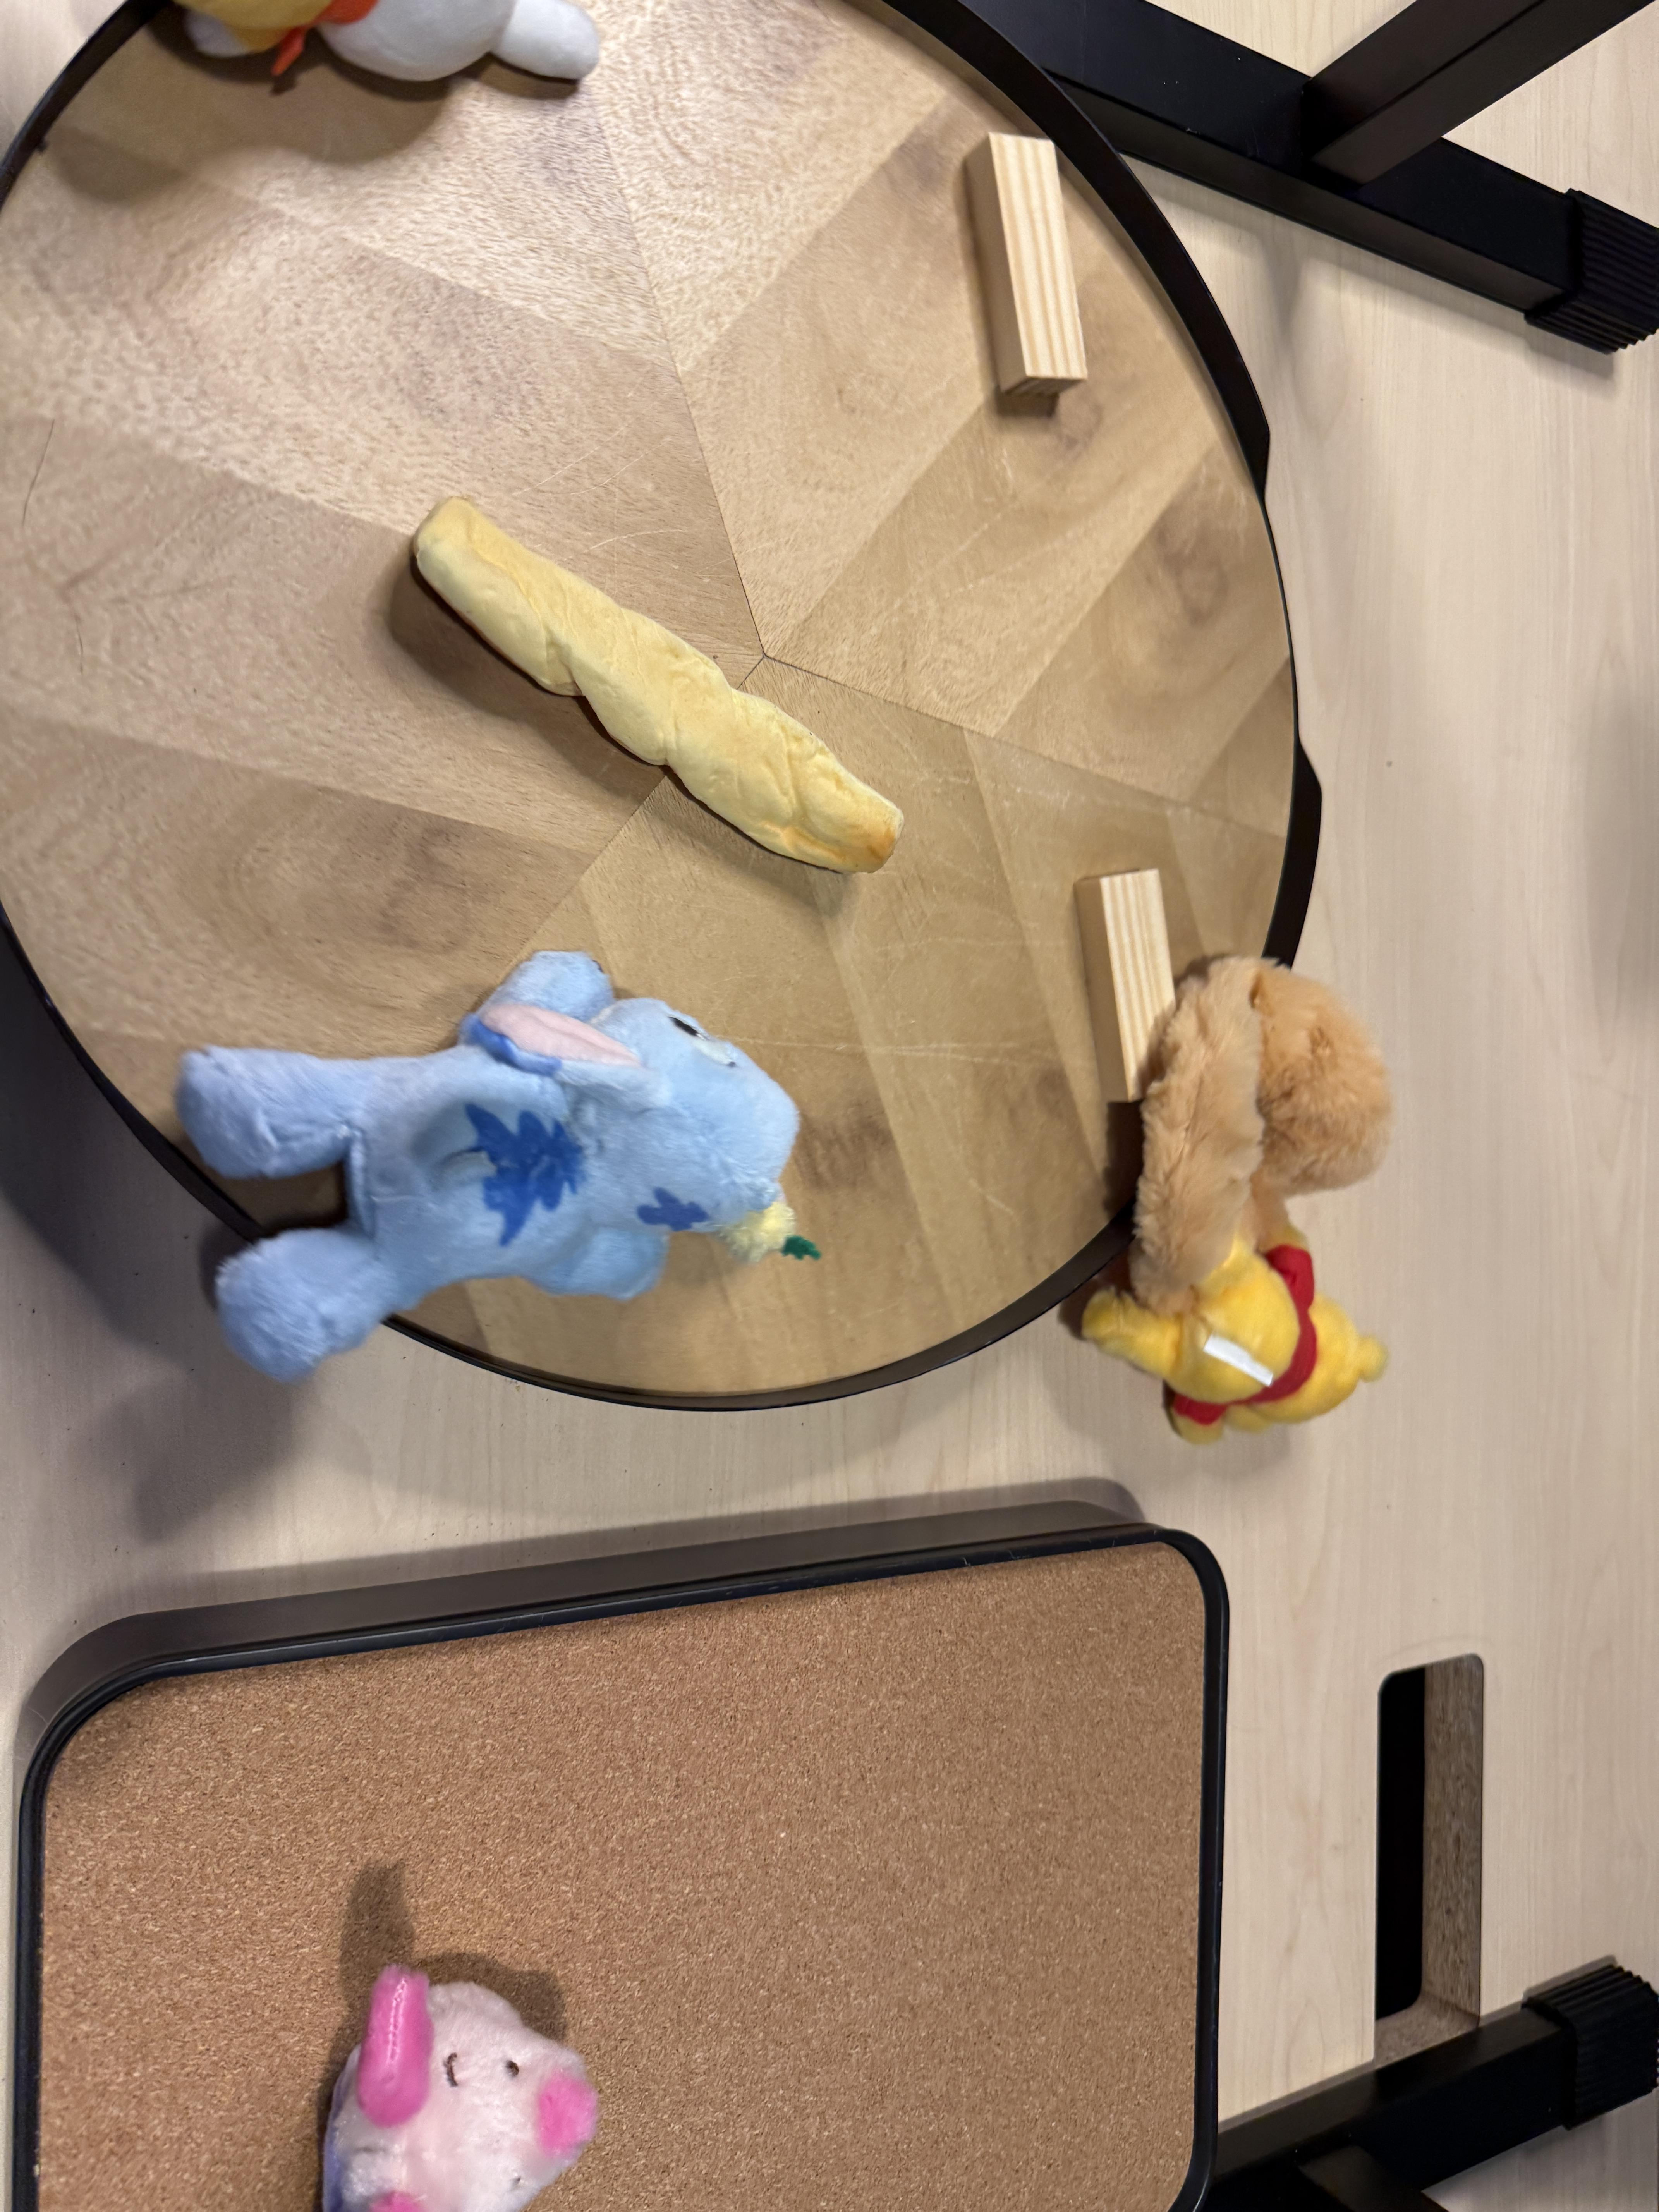block: (972, 136, 1093, 392), (1080, 871, 1199, 1103)
bread: (411, 488, 901, 888)
doll: (178, 949, 812, 1383), (1077, 956, 1403, 1428), (321, 1956, 601, 2212), (146, 0, 610, 94)
